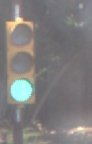Green: (4, 17, 36, 112)
